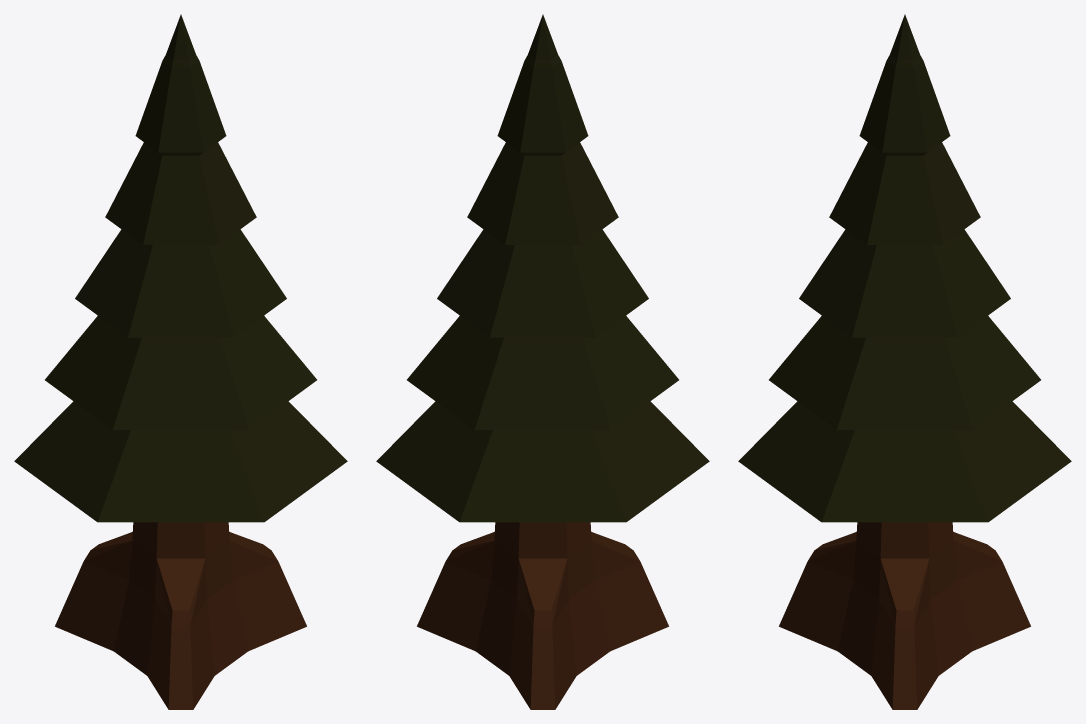
File: tree.obj
3 renders of one model, left to right at view 1: azimuth 30°, elevation 25°; view 2: azimuth 150°, elevation 25°; view 3: azimuth 270°, elevation 25°, orthographic.
Visible parts, largest first — view 1: Circle.014_Circle.001; view 2: Circle.014_Circle.001; view 3: Circle.014_Circle.001.
Part boxes in pixels (bbox=[...]): Circle.014_Circle.001: bbox=[14, 14, 347, 709]; Circle.014_Circle.001: bbox=[376, 14, 709, 709]; Circle.014_Circle.001: bbox=[738, 14, 1071, 709].
Bounding box in the file's own units: 2.94 × 7.15 × 3.39.
